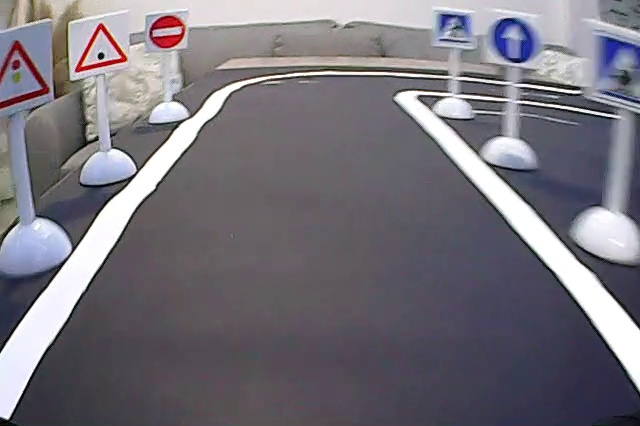do not enter: (147, 11, 187, 50)
green light: (72, 18, 130, 76)
red light: (1, 35, 54, 111)
